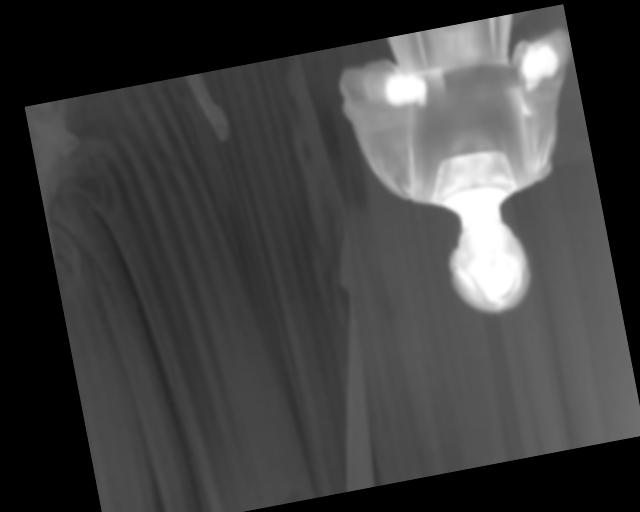face: (439, 211, 538, 322)
